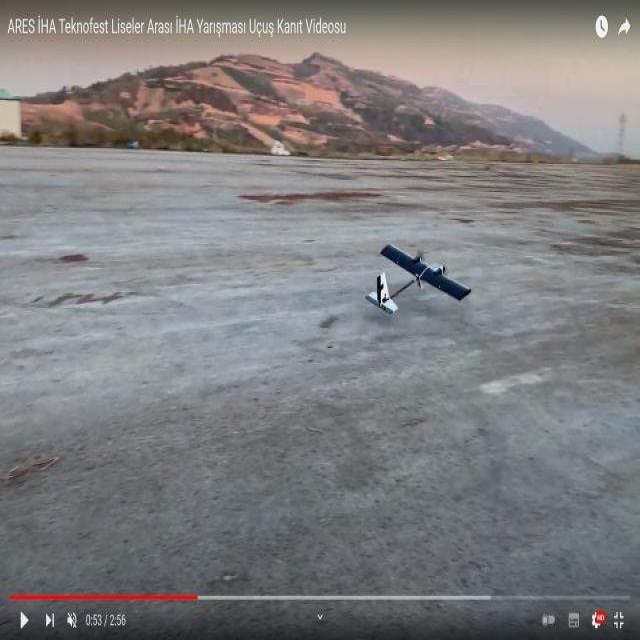iha: (374, 261, 395, 290)
